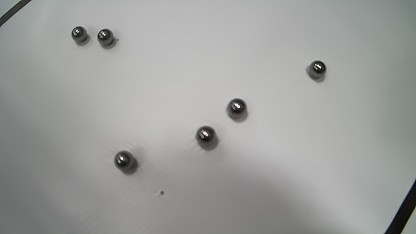ironball: (114, 150, 137, 173), (194, 124, 216, 148), (227, 98, 247, 118), (97, 28, 115, 46), (309, 60, 326, 78), (71, 26, 88, 42)
